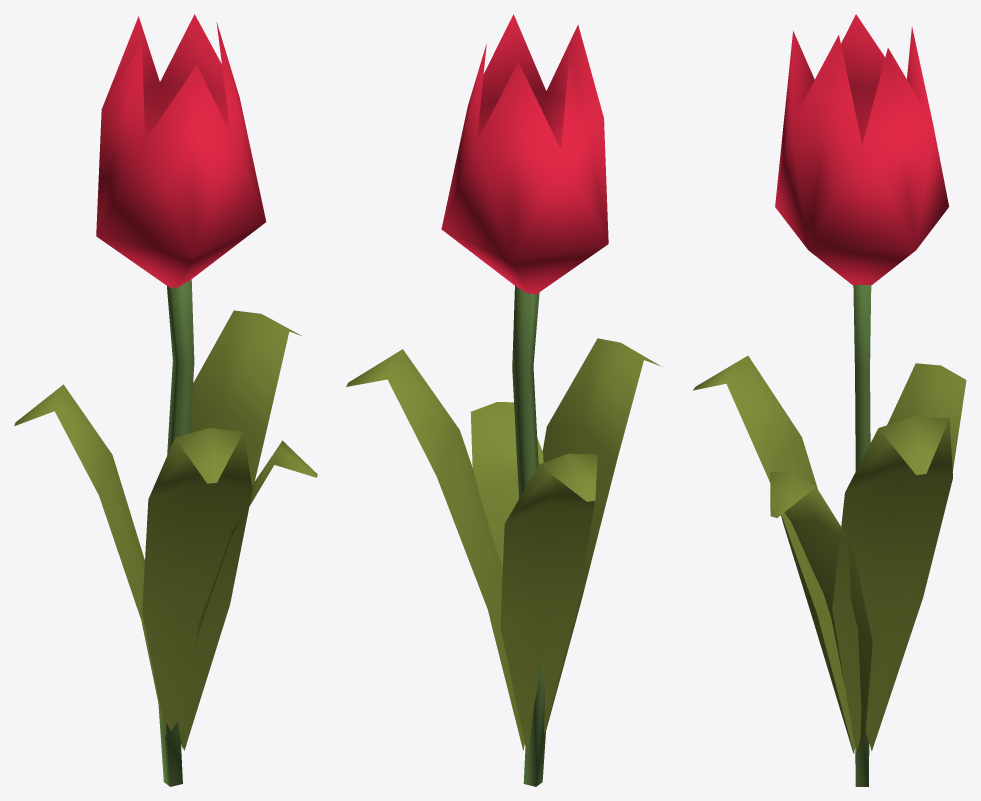
Rendered from Tulip.glb.
The picture shows the model from 3 angles, left to right: view 1: azimuth 30°, elevation 25°; view 2: azimuth 150°, elevation 25°; view 3: azimuth 270°, elevation 25°; orthographic projection.
Parts seen in each view (by area): view 1: Tulip_Leaves, Tulip; view 2: Tulip_Leaves, Tulip; view 3: Tulip_Leaves, Tulip.
Part boxes in pixels (box(x1,y1,x2,y2)): Tulip_Leaves: box(14, 310, 317, 752); Tulip: box(96, 14, 266, 786); Tulip_Leaves: box(346, 338, 662, 752); Tulip: box(441, 14, 608, 786); Tulip_Leaves: box(693, 355, 966, 755); Tulip: box(775, 14, 949, 786).
Bounding box in the file's own units: 0.1324 × 0.3554 × 0.1154.
2 materials, 1 textured.
